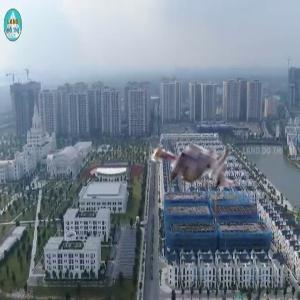drone: (134, 114, 247, 227)
